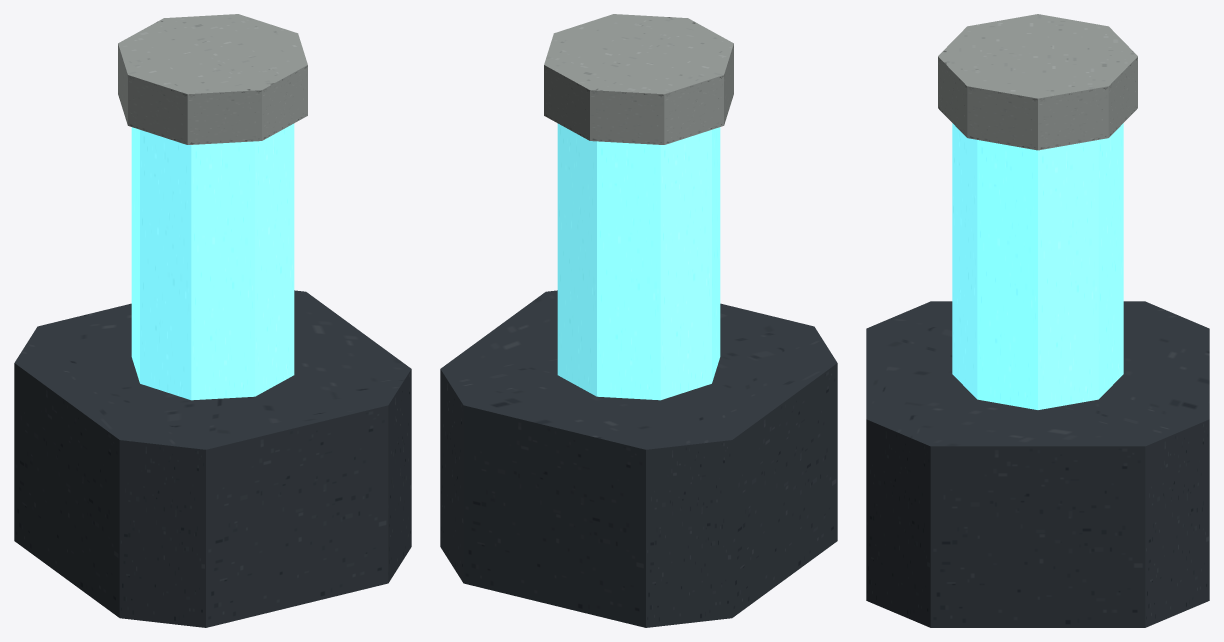
The model's file is DockBeacon.fbx.
3 views of the same model, side by side, from view 1: azimuth 30°, elevation 25°; view 2: azimuth 150°, elevation 25°; view 3: azimuth 270°, elevation 25° (orthographic).
Visible parts, largest first — view 1: DockBeacon; view 2: DockBeacon; view 3: DockBeacon.
Boxes of the visible parts, x1,y1,x2,y2 form: DockBeacon: (14, 14, 411, 627); DockBeacon: (440, 14, 837, 627); DockBeacon: (866, 14, 1209, 627).
Bounding box in the file's own units: 48 × 77 × 48.
